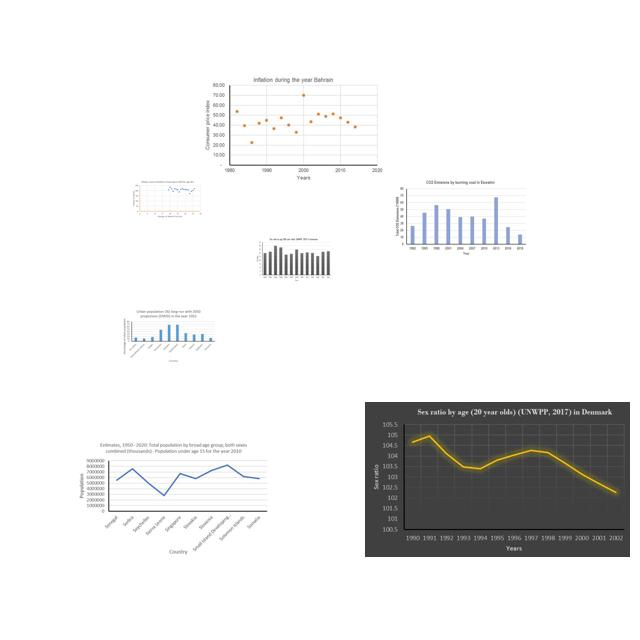Graph: (365, 402, 630, 557), (76, 439, 270, 556), (204, 75, 383, 181), (393, 179, 527, 257), (121, 309, 216, 364), (256, 237, 332, 282), (132, 180, 203, 219)
